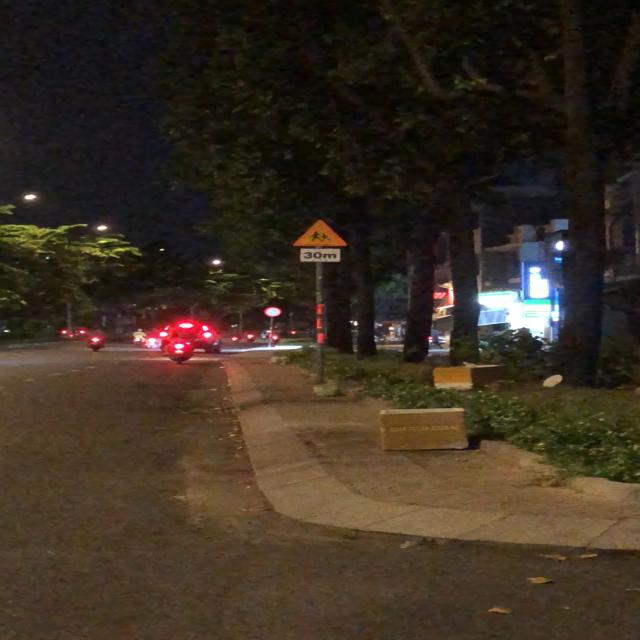Bien bao tre em: (290, 218, 352, 248)
